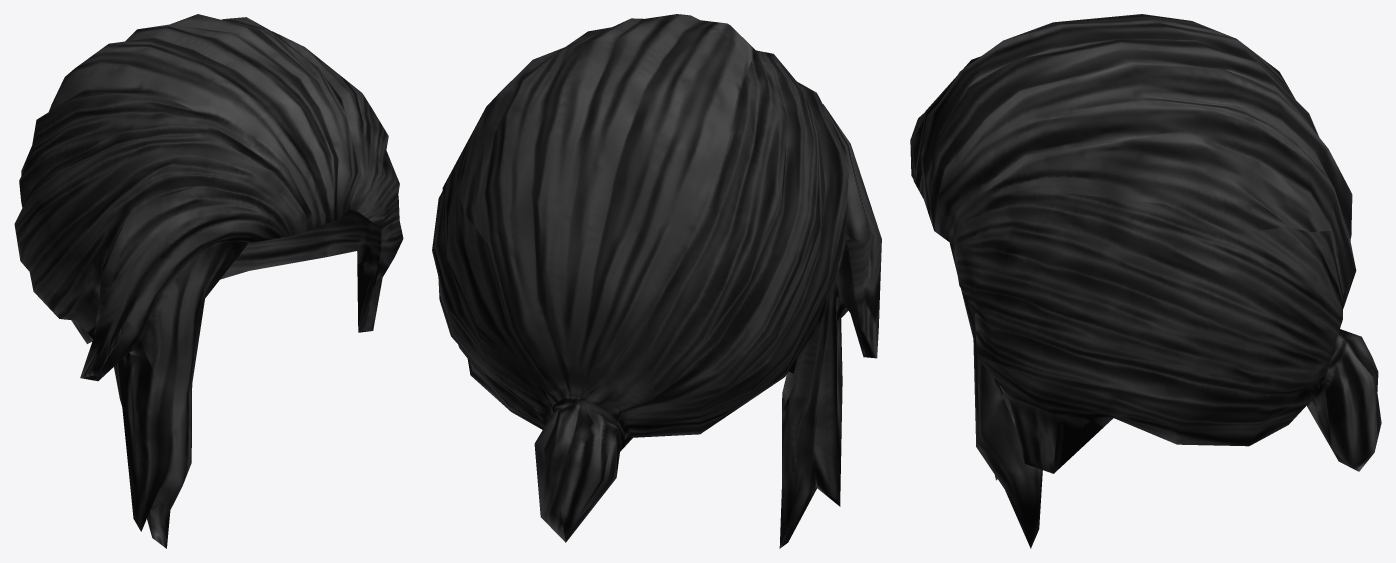
Rendered from AF_M_hair_07.fbx.
The picture shows the model from 3 angles, left to right: view 1: azimuth 30°, elevation 25°; view 2: azimuth 150°, elevation 25°; view 3: azimuth 270°, elevation 25°; orthographic projection. The views are drawn at different scales.
Parts seen in each view (by area): view 1: AF_M_hair_08; view 2: AF_M_hair_08; view 3: AF_M_hair_08.
Boxes of the visible parts, x1,y1,x2,y2 form: AF_M_hair_08: (14, 14, 403, 548); AF_M_hair_08: (432, 14, 881, 548); AF_M_hair_08: (910, 14, 1381, 548).
Size of the model in its own units: 765 by 1036 by 792.
